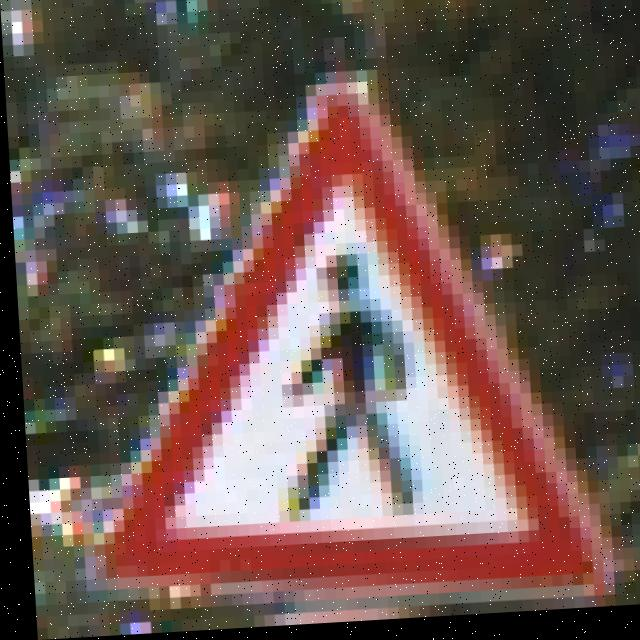crosswalk: (152, 167, 612, 621)
